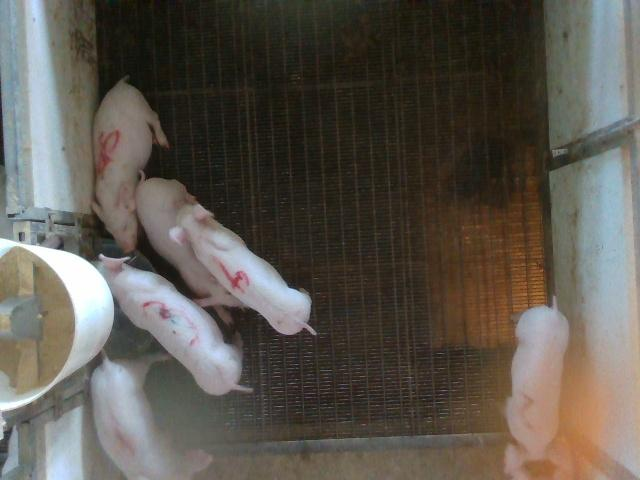pig-1: (90, 358, 180, 479)
pig-2: (505, 302, 571, 477)
pig-3: (98, 255, 248, 394)
pig-4: (170, 204, 316, 335)
pig-5: (92, 78, 169, 253)
